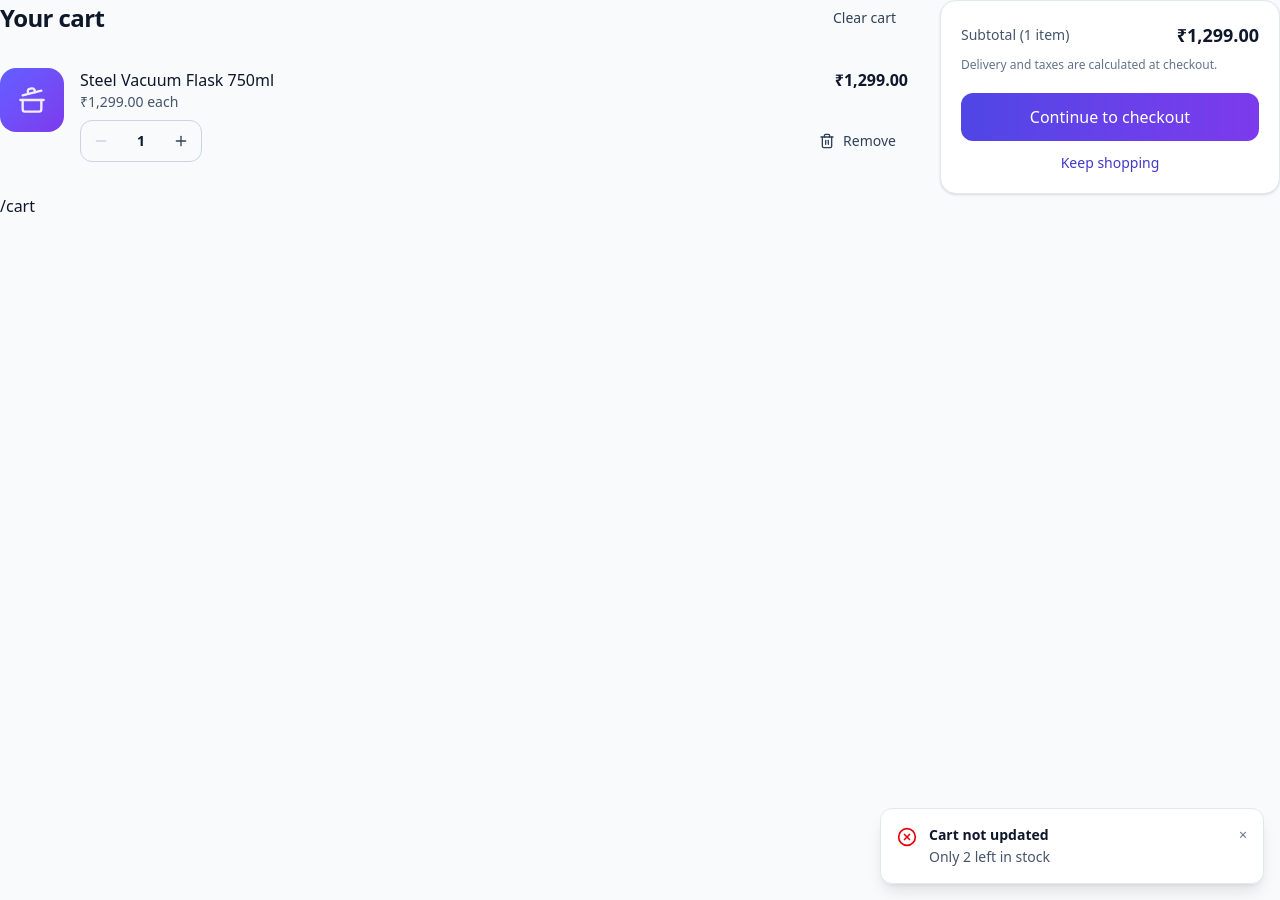
Test case: CartPage › asks before clearing the cart and clears it on confirm
Click the button "Clear cart" at (864, 18), box [821, 0, 908, 36]
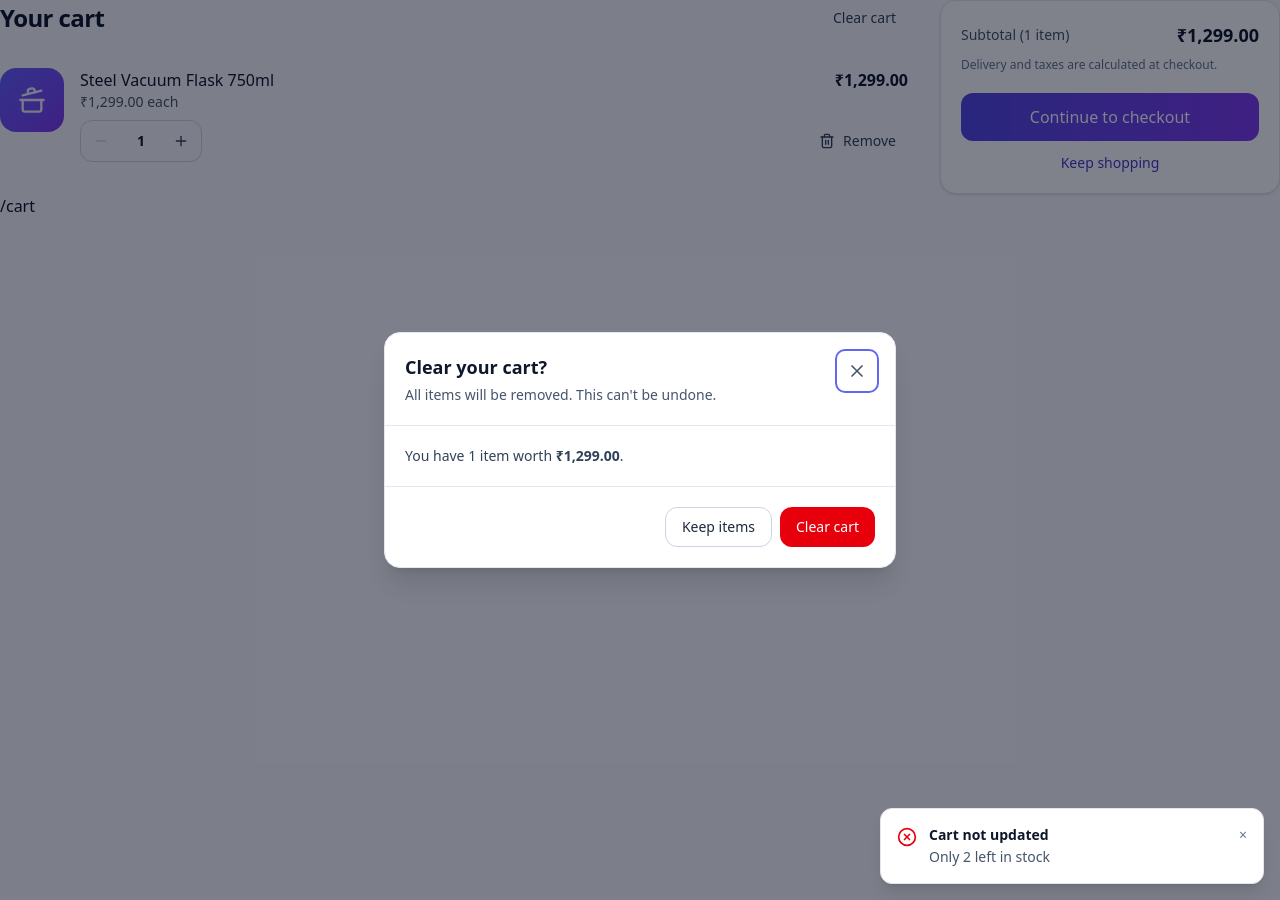
Click the button "Clear cart" at (828, 527), box [780, 507, 875, 547]
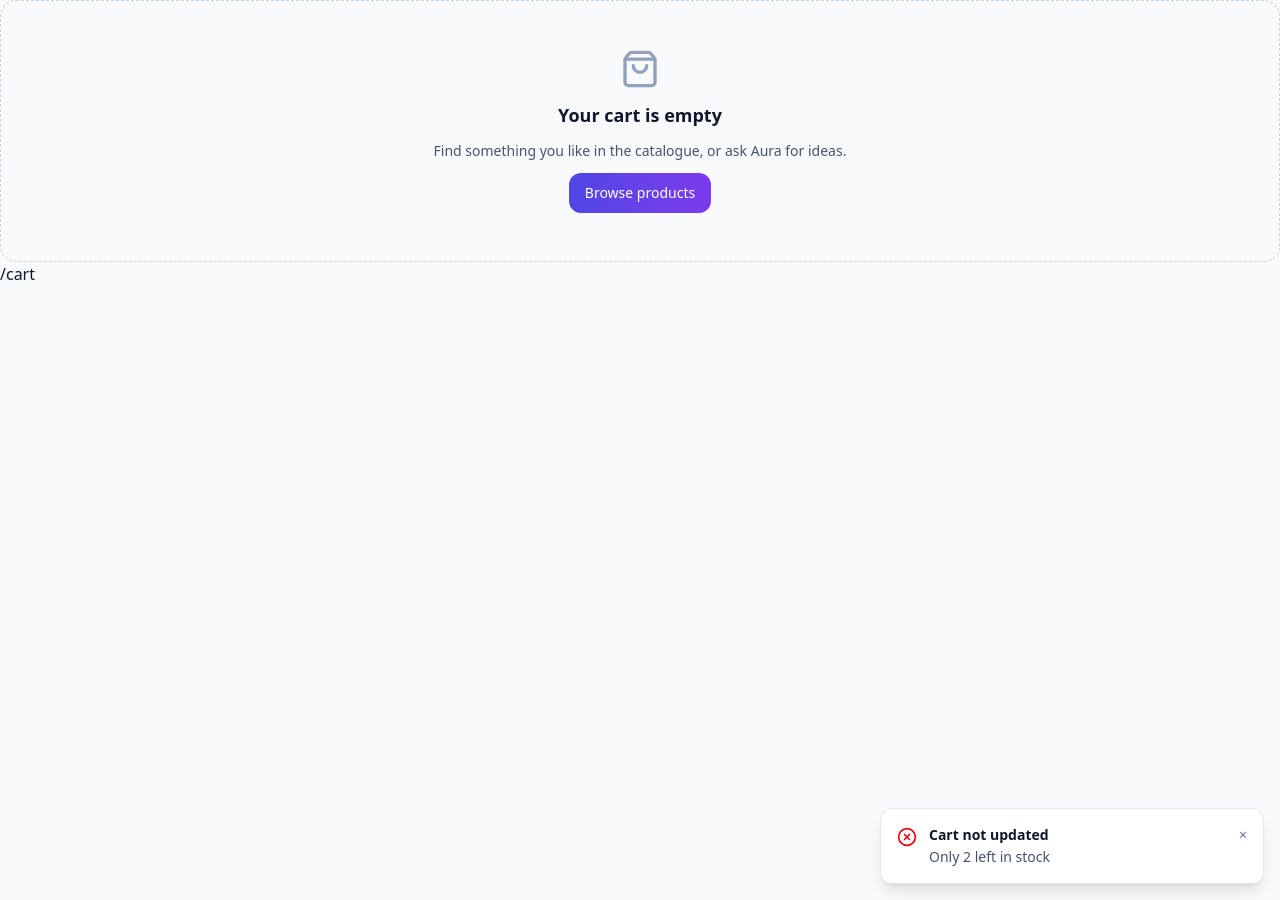
expect the heading "Your cart is empty" is shown: met, box [558, 101, 722, 129]
